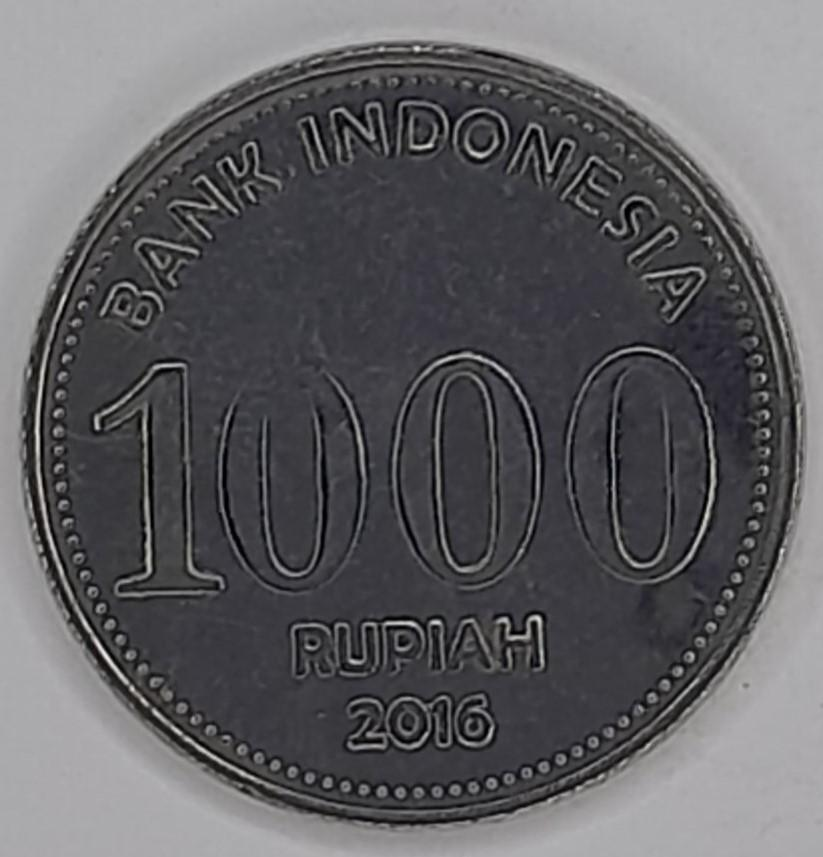coin_1000_e2016: (14, 17, 812, 857)
